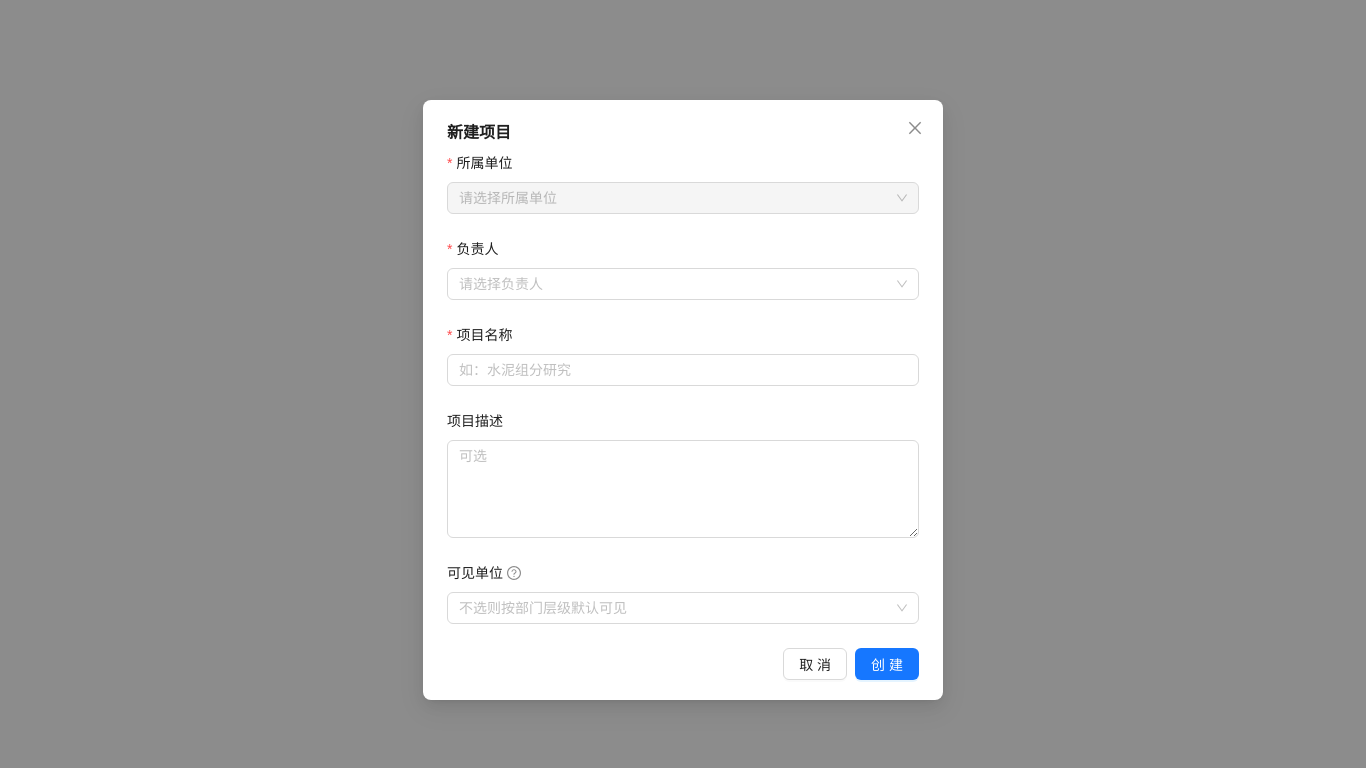
Test: CreateProjectModal › shows validation error for 项目名称 when creating empty
Click the button "创 建" at (887, 664), box [855,648,919,680]
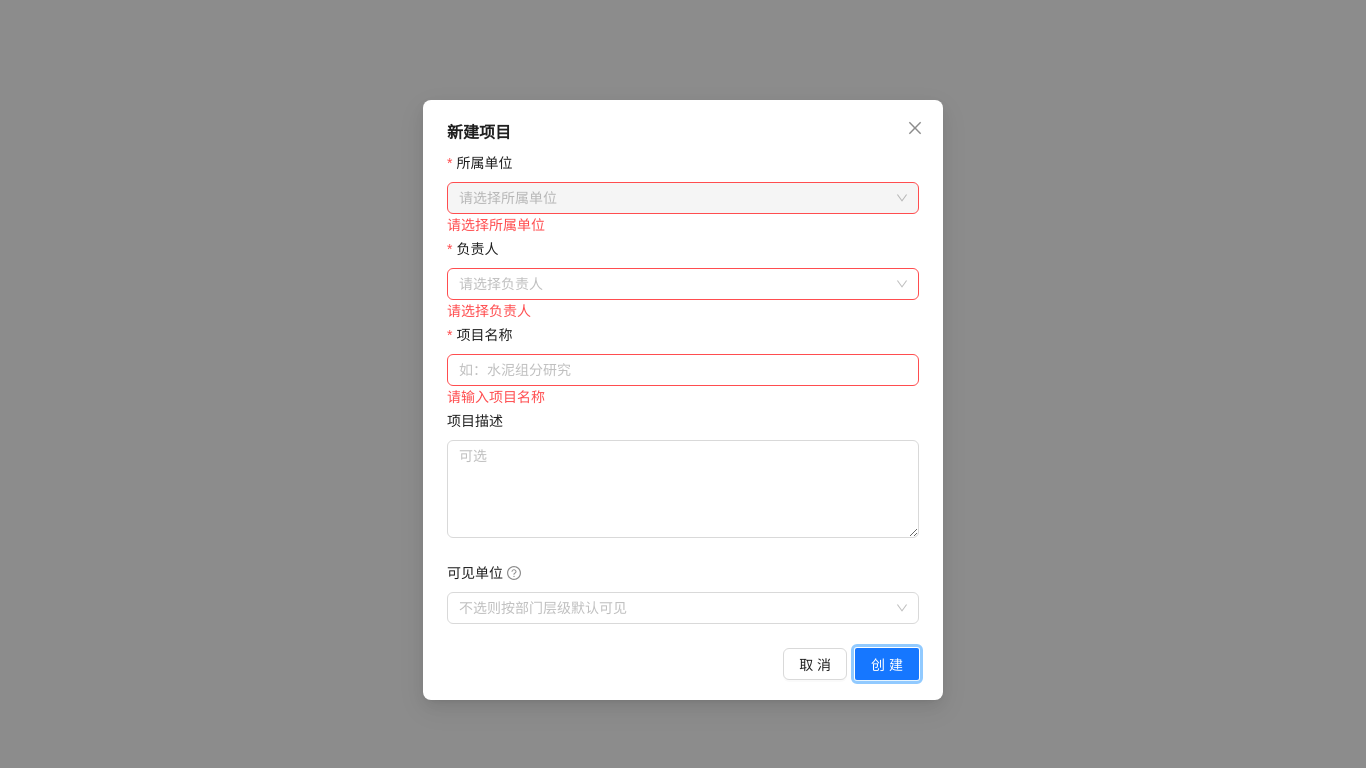
Expected: the text "请输入项目名称" is shown, [447,388,545,405]
